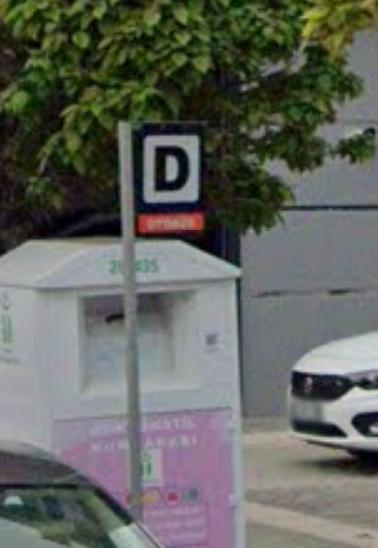station: (138, 122, 202, 202)
